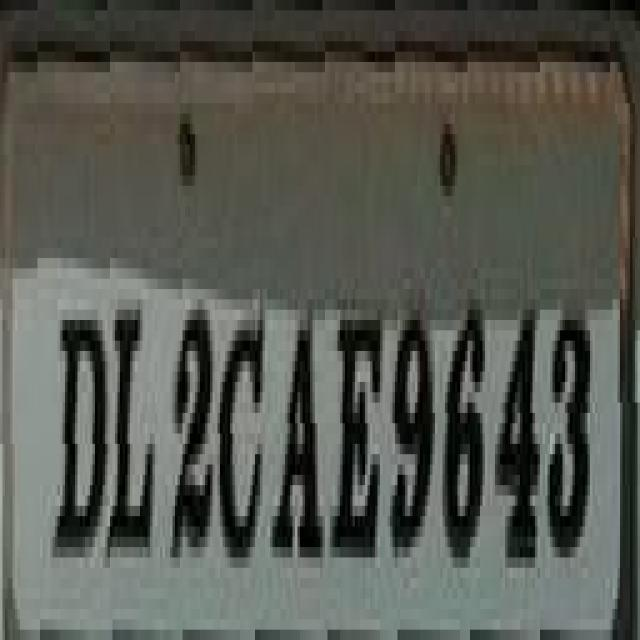license_plate: (20, 62, 640, 630)
